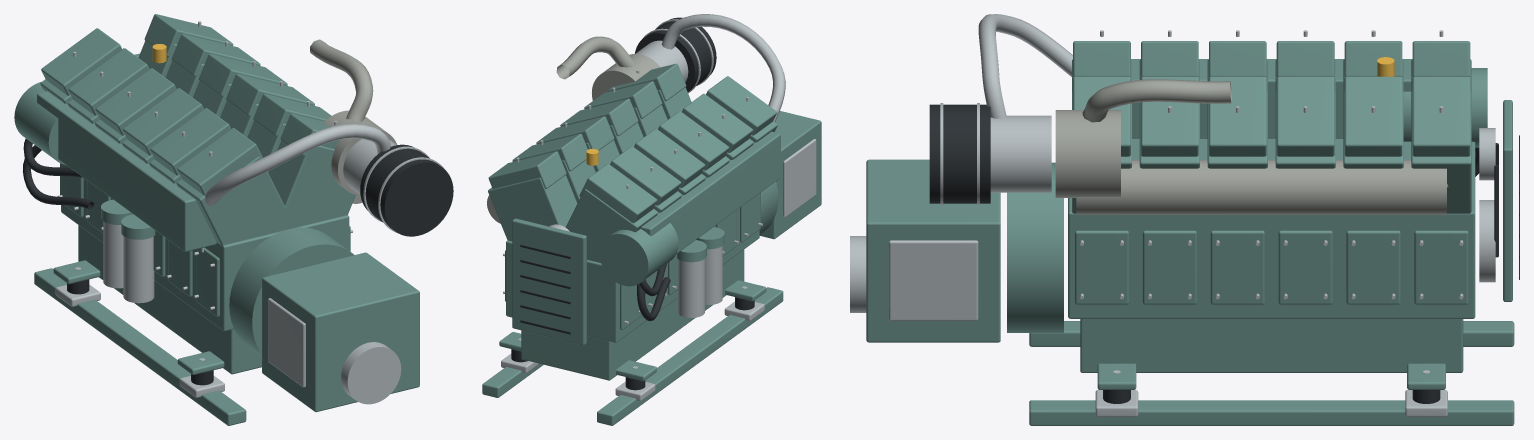
The model's file is marine_v12_freighter.glb.
The picture shows the model from 3 angles, left to right: view 1: azimuth 30°, elevation 25°; view 2: azimuth 150°, elevation 25°; view 3: azimuth 270°, elevation 25°; orthographic projection. The views are drawn at different scales.
Parts seen in each view (by area): view 1: marine_v12_freighter Engine_Paint.002, marine_v12_freighter Fixed_MachinedSteel.002, marine_v12_freighter Fixed_Rubber.002, marine_v12_freighter Fixed_HeatShield.002; view 2: marine_v12_freighter Engine_Paint.002, marine_v12_freighter Fixed_MachinedSteel.002, marine_v12_freighter Fixed_Rubber.002, marine_v12_freighter Fixed_HeatShield.002; view 3: marine_v12_freighter Engine_Paint.002, marine_v12_freighter Fixed_HeatShield.002, marine_v12_freighter Fixed_MachinedSteel.002, marine_v12_freighter Fixed_Rubber.002.
Part boxes in pixels (box(x1,y1,x2,y2)): marine_v12_freighter Engine_Paint.002: box(14, 14, 419, 425); marine_v12_freighter Fixed_MachinedSteel.002: box(55, 21, 444, 404); marine_v12_freighter Fixed_Rubber.002: box(22, 138, 453, 385); marine_v12_freighter Fixed_HeatShield.002: box(310, 39, 396, 203); marine_v12_freighter Engine_Paint.002: box(482, 63, 821, 425); marine_v12_freighter Fixed_MachinedSteel.002: box(501, 14, 816, 401); marine_v12_freighter Fixed_Rubber.002: box(511, 17, 754, 390); marine_v12_freighter Fixed_HeatShield.002: box(487, 36, 660, 223); marine_v12_freighter Engine_Paint.002: box(866, 41, 1514, 425); marine_v12_freighter Fixed_HeatShield.002: box(1055, 79, 1448, 214); marine_v12_freighter Fixed_MachinedSteel.002: box(850, 14, 1495, 416); marine_v12_freighter Fixed_Rubber.002: box(929, 104, 1519, 403).
Size of the model in its own units: 1.61 by 2.06 by 3.45.
